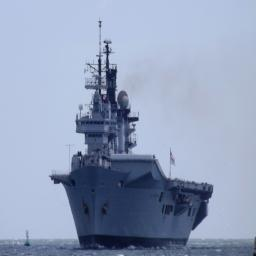Portanaves: (49, 15, 216, 252)
